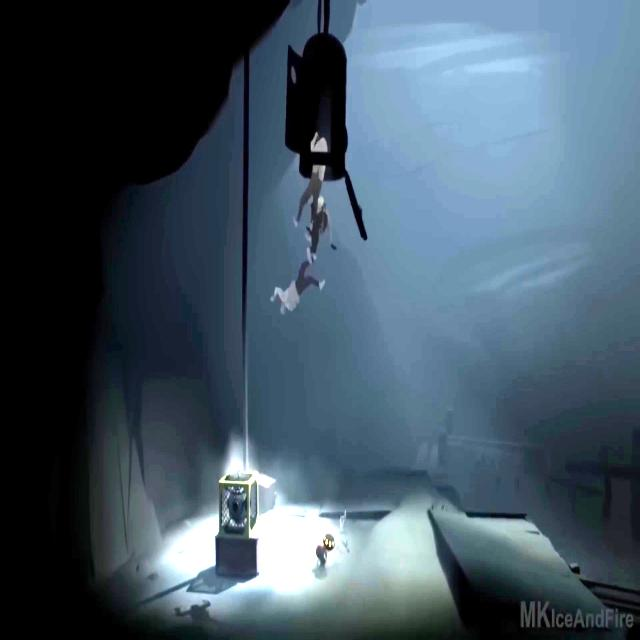zombie: (293, 133, 327, 226), (269, 261, 326, 313)
